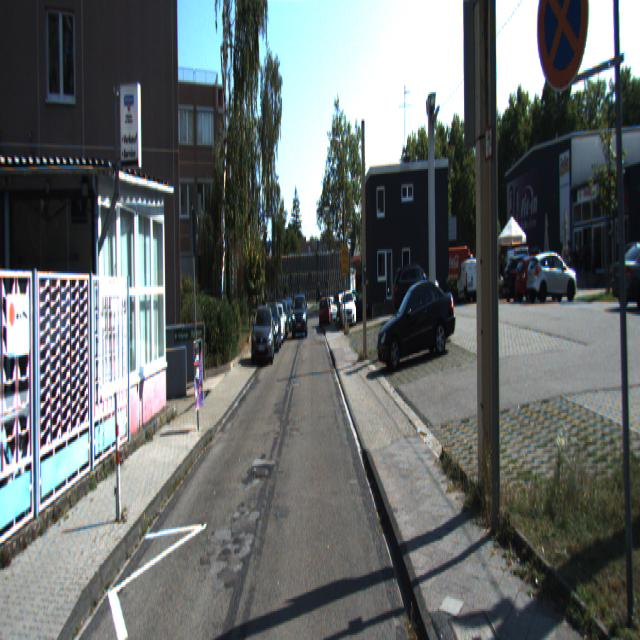Car: (374, 273, 460, 374), (526, 249, 579, 304), (393, 266, 440, 325), (514, 254, 566, 306), (608, 230, 640, 308), (251, 301, 275, 366), (474, 259, 499, 302), (456, 257, 479, 303), (292, 295, 308, 340), (340, 289, 356, 329)
